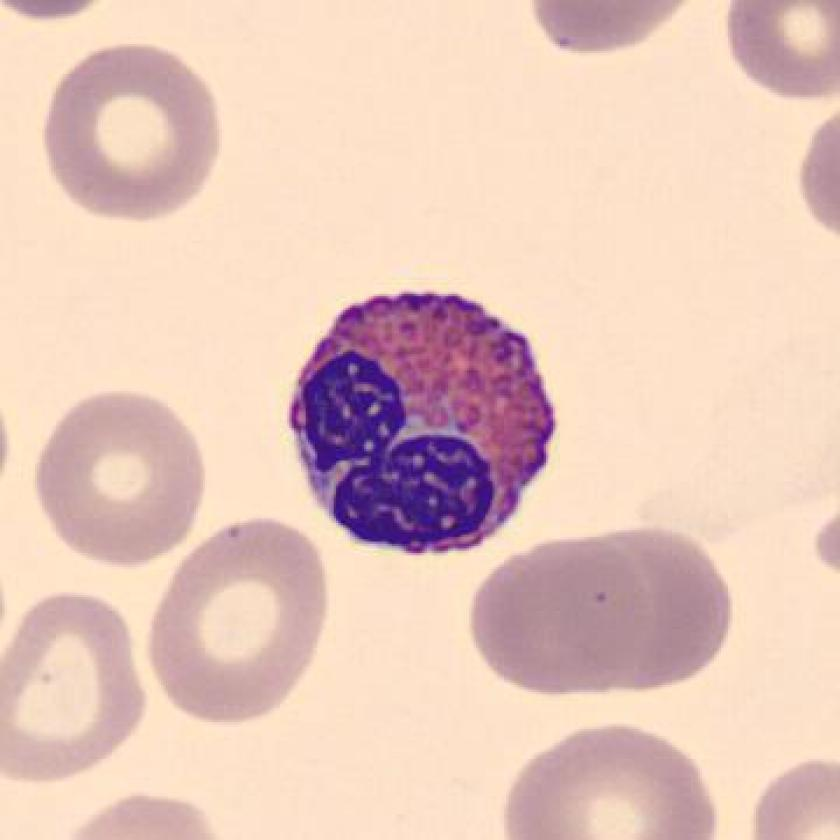eosinophil: (274, 276, 573, 575)
